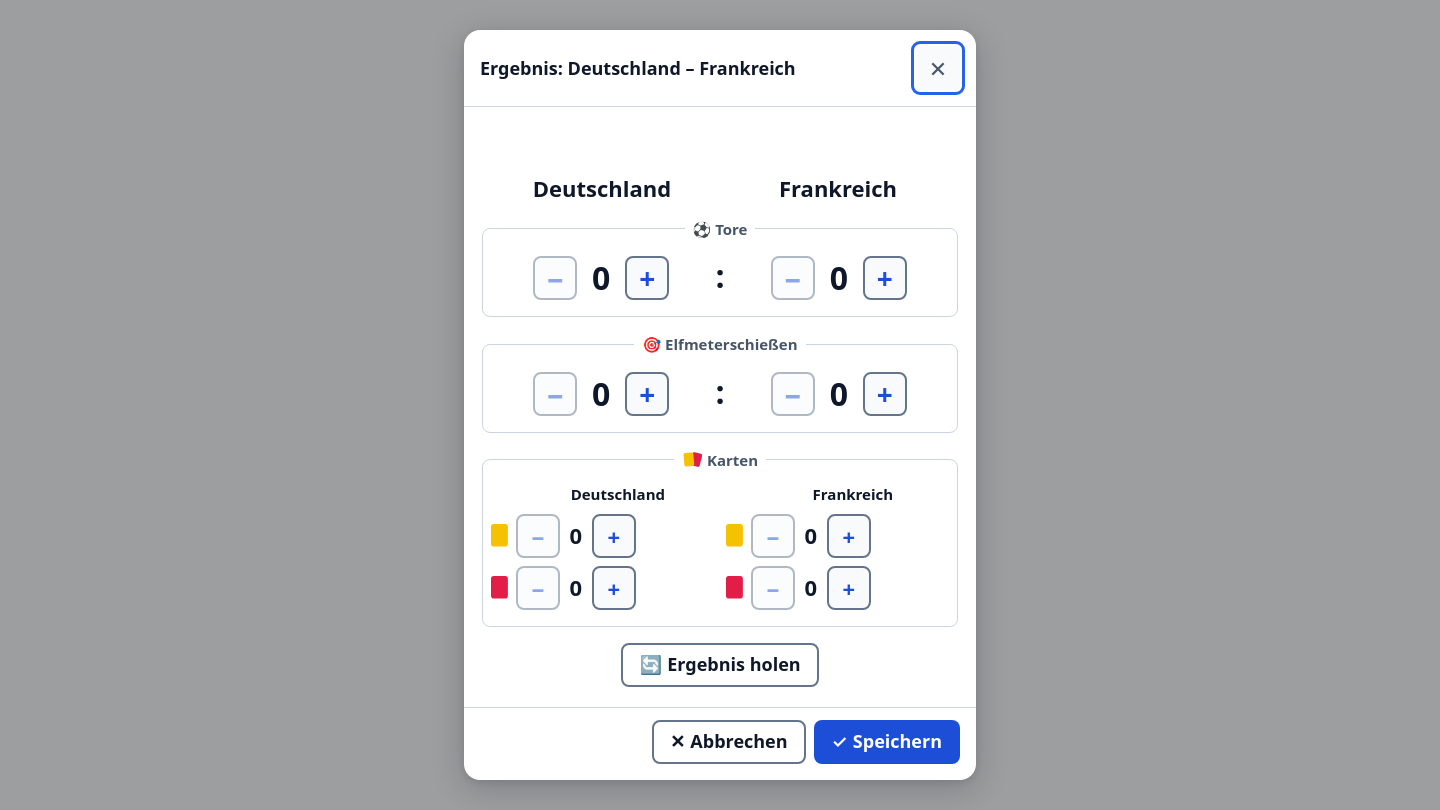
Test case: ScoreDialog › penalty shootout › shows the shootout inputs exactly while a knockout score is level
Expected: the number of "ScoreInput" components is 2, [482,218,958,317]; [482,333,958,433]
Click the 1st button "+".
click(647, 278)  # box [625,256,669,300]
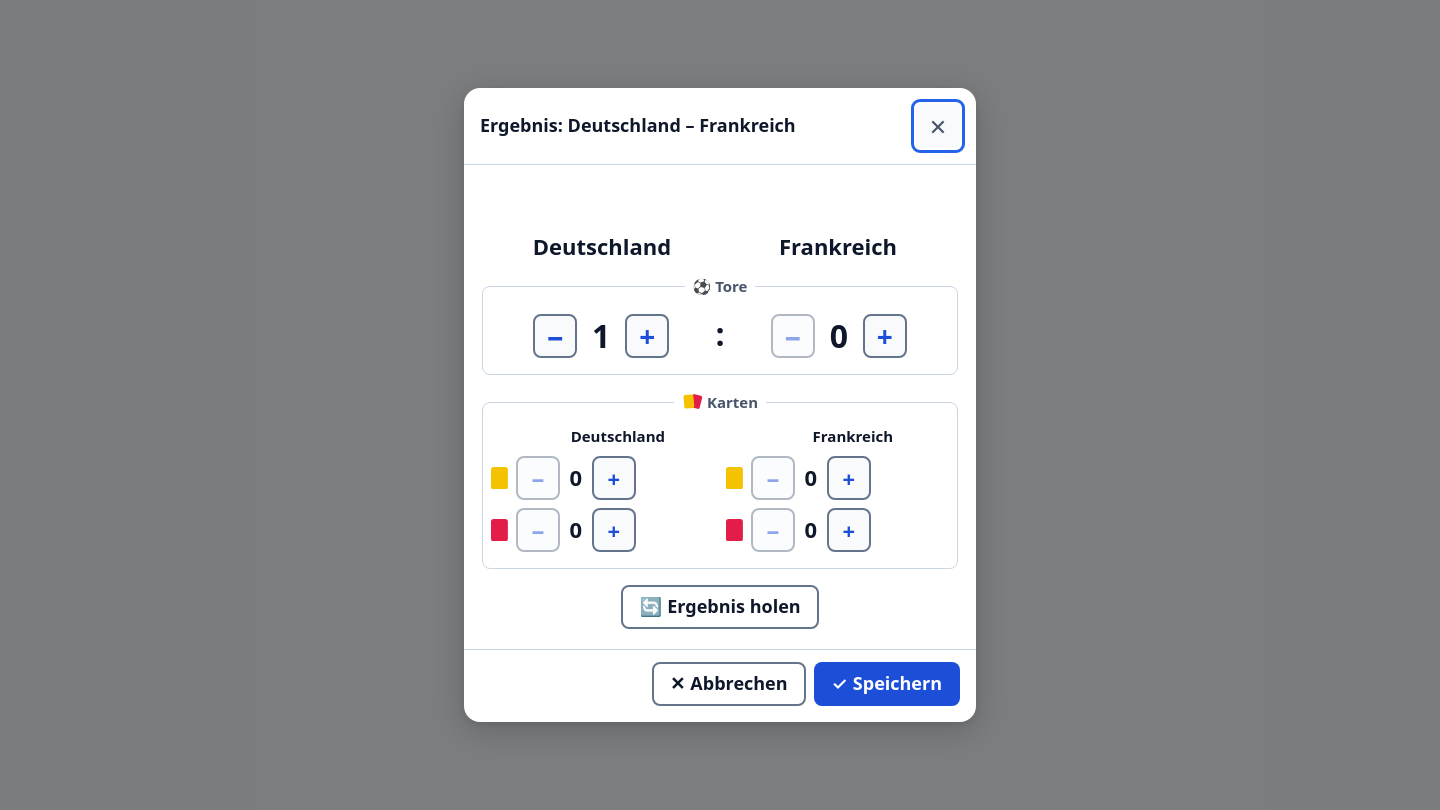
Now the number of "ScoreInput" components is 1, box [482,275,958,375]
